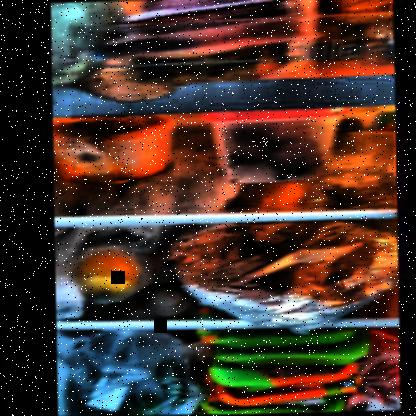chicken: (195, 325, 366, 414)
lemon: (78, 247, 144, 302)
salami: (142, 0, 294, 48)
